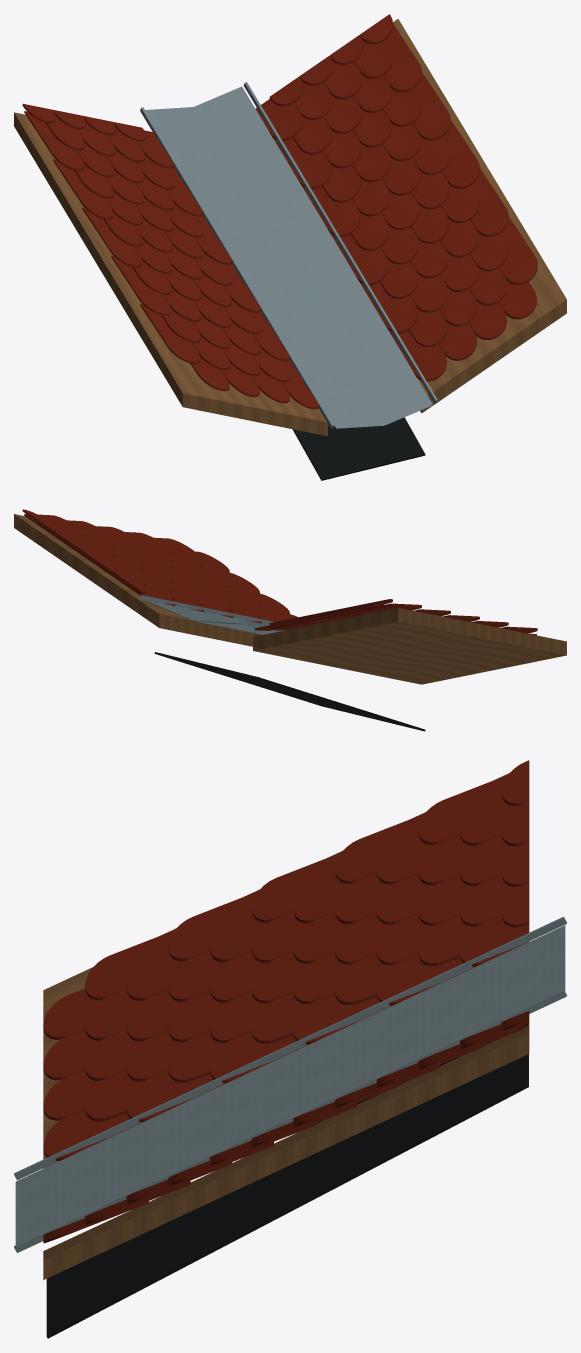
The model's file is modell.glb.
The picture shows the model from 3 angles, top to bottom: view 1: azimuth 30°, elevation 25°; view 2: azimuth 150°, elevation 25°; view 3: azimuth 270°, elevation 25°; orthographic projection. The views are drawn at different scales.
Visible parts, largest first — view 1: s06-ziegel_deckung, s06-kehlblech_zusatzebene, s06-unterlage_tragwerk, s06-zusatzebene_zusatzebene, s06-kehlblech_deckung; view 2: s06-unterlage_tragwerk, s06-ziegel_deckung, s06-zusatzebene_zusatzebene, s06-kehlblech_zusatzebene, s06-kehlblech_deckung; view 3: s06-ziegel_deckung, s06-kehlblech_zusatzebene, s06-zusatzebene_zusatzebene, s06-unterlage_tragwerk, s06-kehlblech_deckung.
Boxes of the visible parts, left/top/right/bottom form: s06-ziegel_deckung: left=22, top=14, right=537, bottom=409; s06-kehlblech_zusatzebene: left=145, top=86, right=432, bottom=428; s06-unterlage_tragwerk: left=14, top=19, right=566, bottom=436; s06-zusatzebene_zusatzebene: left=292, top=417, right=425, bottom=480; s06-kehlblech_deckung: left=140, top=82, right=437, bottom=428; s06-unterlage_tragwerk: left=14, top=514, right=566, bottom=684; s06-ziegel_deckung: left=22, top=509, right=537, bottom=635; s06-zusatzebene_zusatzebene: left=154, top=652, right=425, bottom=731; s06-kehlblech_zusatzebene: left=145, top=600, right=276, bottom=634; s06-kehlblech_deckung: left=140, top=595, right=284, bottom=631; s06-ziegel_deckung: left=43, top=760, right=529, bottom=1243; s06-kehlblech_zusatzebene: left=15, top=925, right=565, bottom=1244; s06-zusatzebene_zusatzebene: left=46, top=1023, right=528, bottom=1338; s06-unterlage_tragwerk: left=43, top=773, right=529, bottom=1279; s06-kehlblech_deckung: left=14, top=916, right=566, bottom=1252.
Bounding box in the file's own units: 2.3 × 1.64 × 1.99.
Materials: 4 (3 with a texture image).
